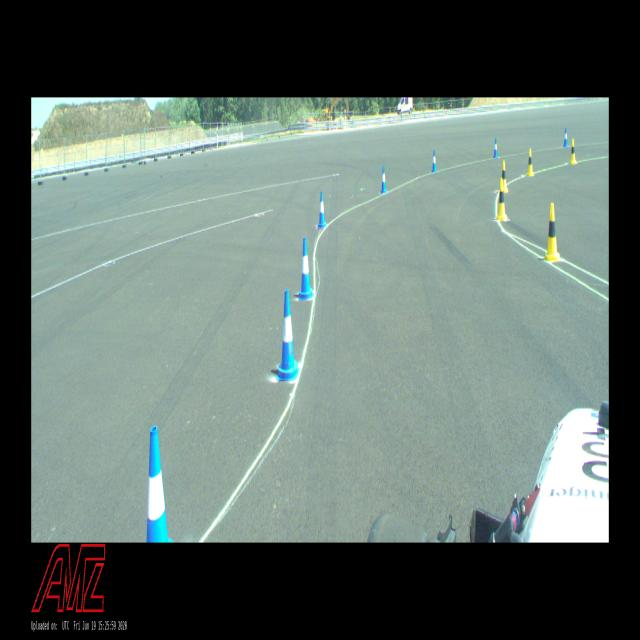blue_cone: (147, 426, 173, 542), (276, 290, 301, 380), (298, 237, 314, 300), (317, 191, 327, 228), (381, 166, 386, 193), (563, 128, 568, 148), (493, 138, 498, 158), (432, 150, 436, 173)
yellow_cone: (543, 203, 561, 262), (496, 178, 508, 221), (526, 148, 534, 176), (570, 139, 578, 164), (502, 160, 508, 192)
